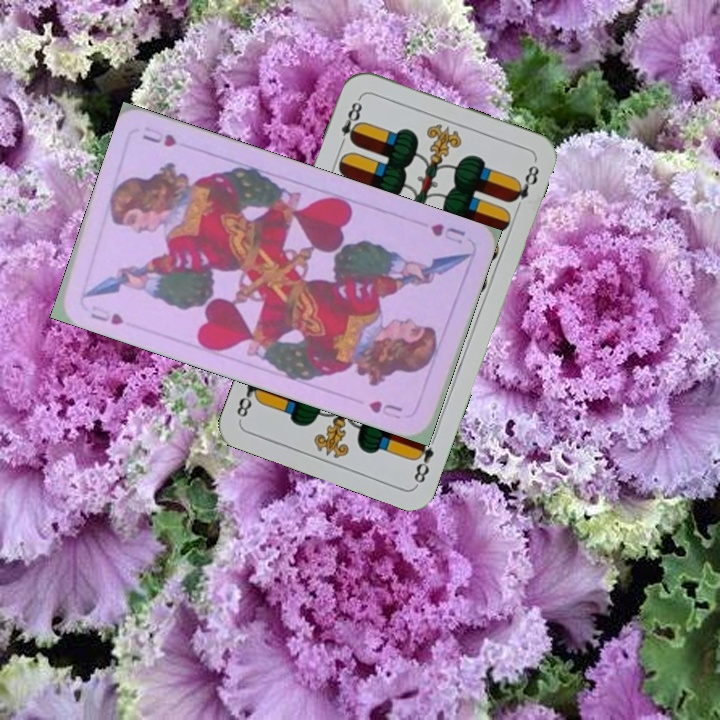E8: (335, 93, 365, 150), (409, 433, 437, 487)
HU: (426, 219, 468, 247), (86, 301, 127, 328)
